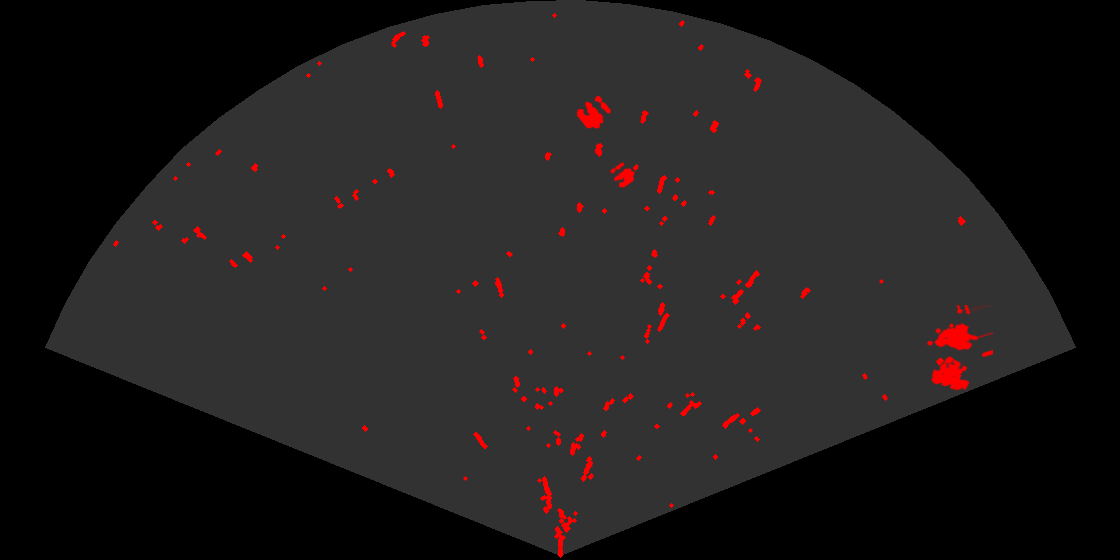ball: (575, 94, 613, 130), (608, 161, 636, 189)
cage: (925, 305, 993, 392)
